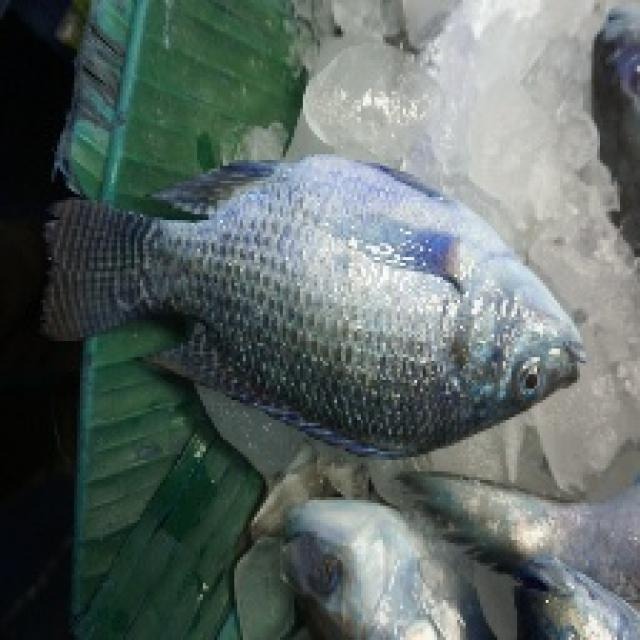Fresh: (72, 141, 624, 469)
